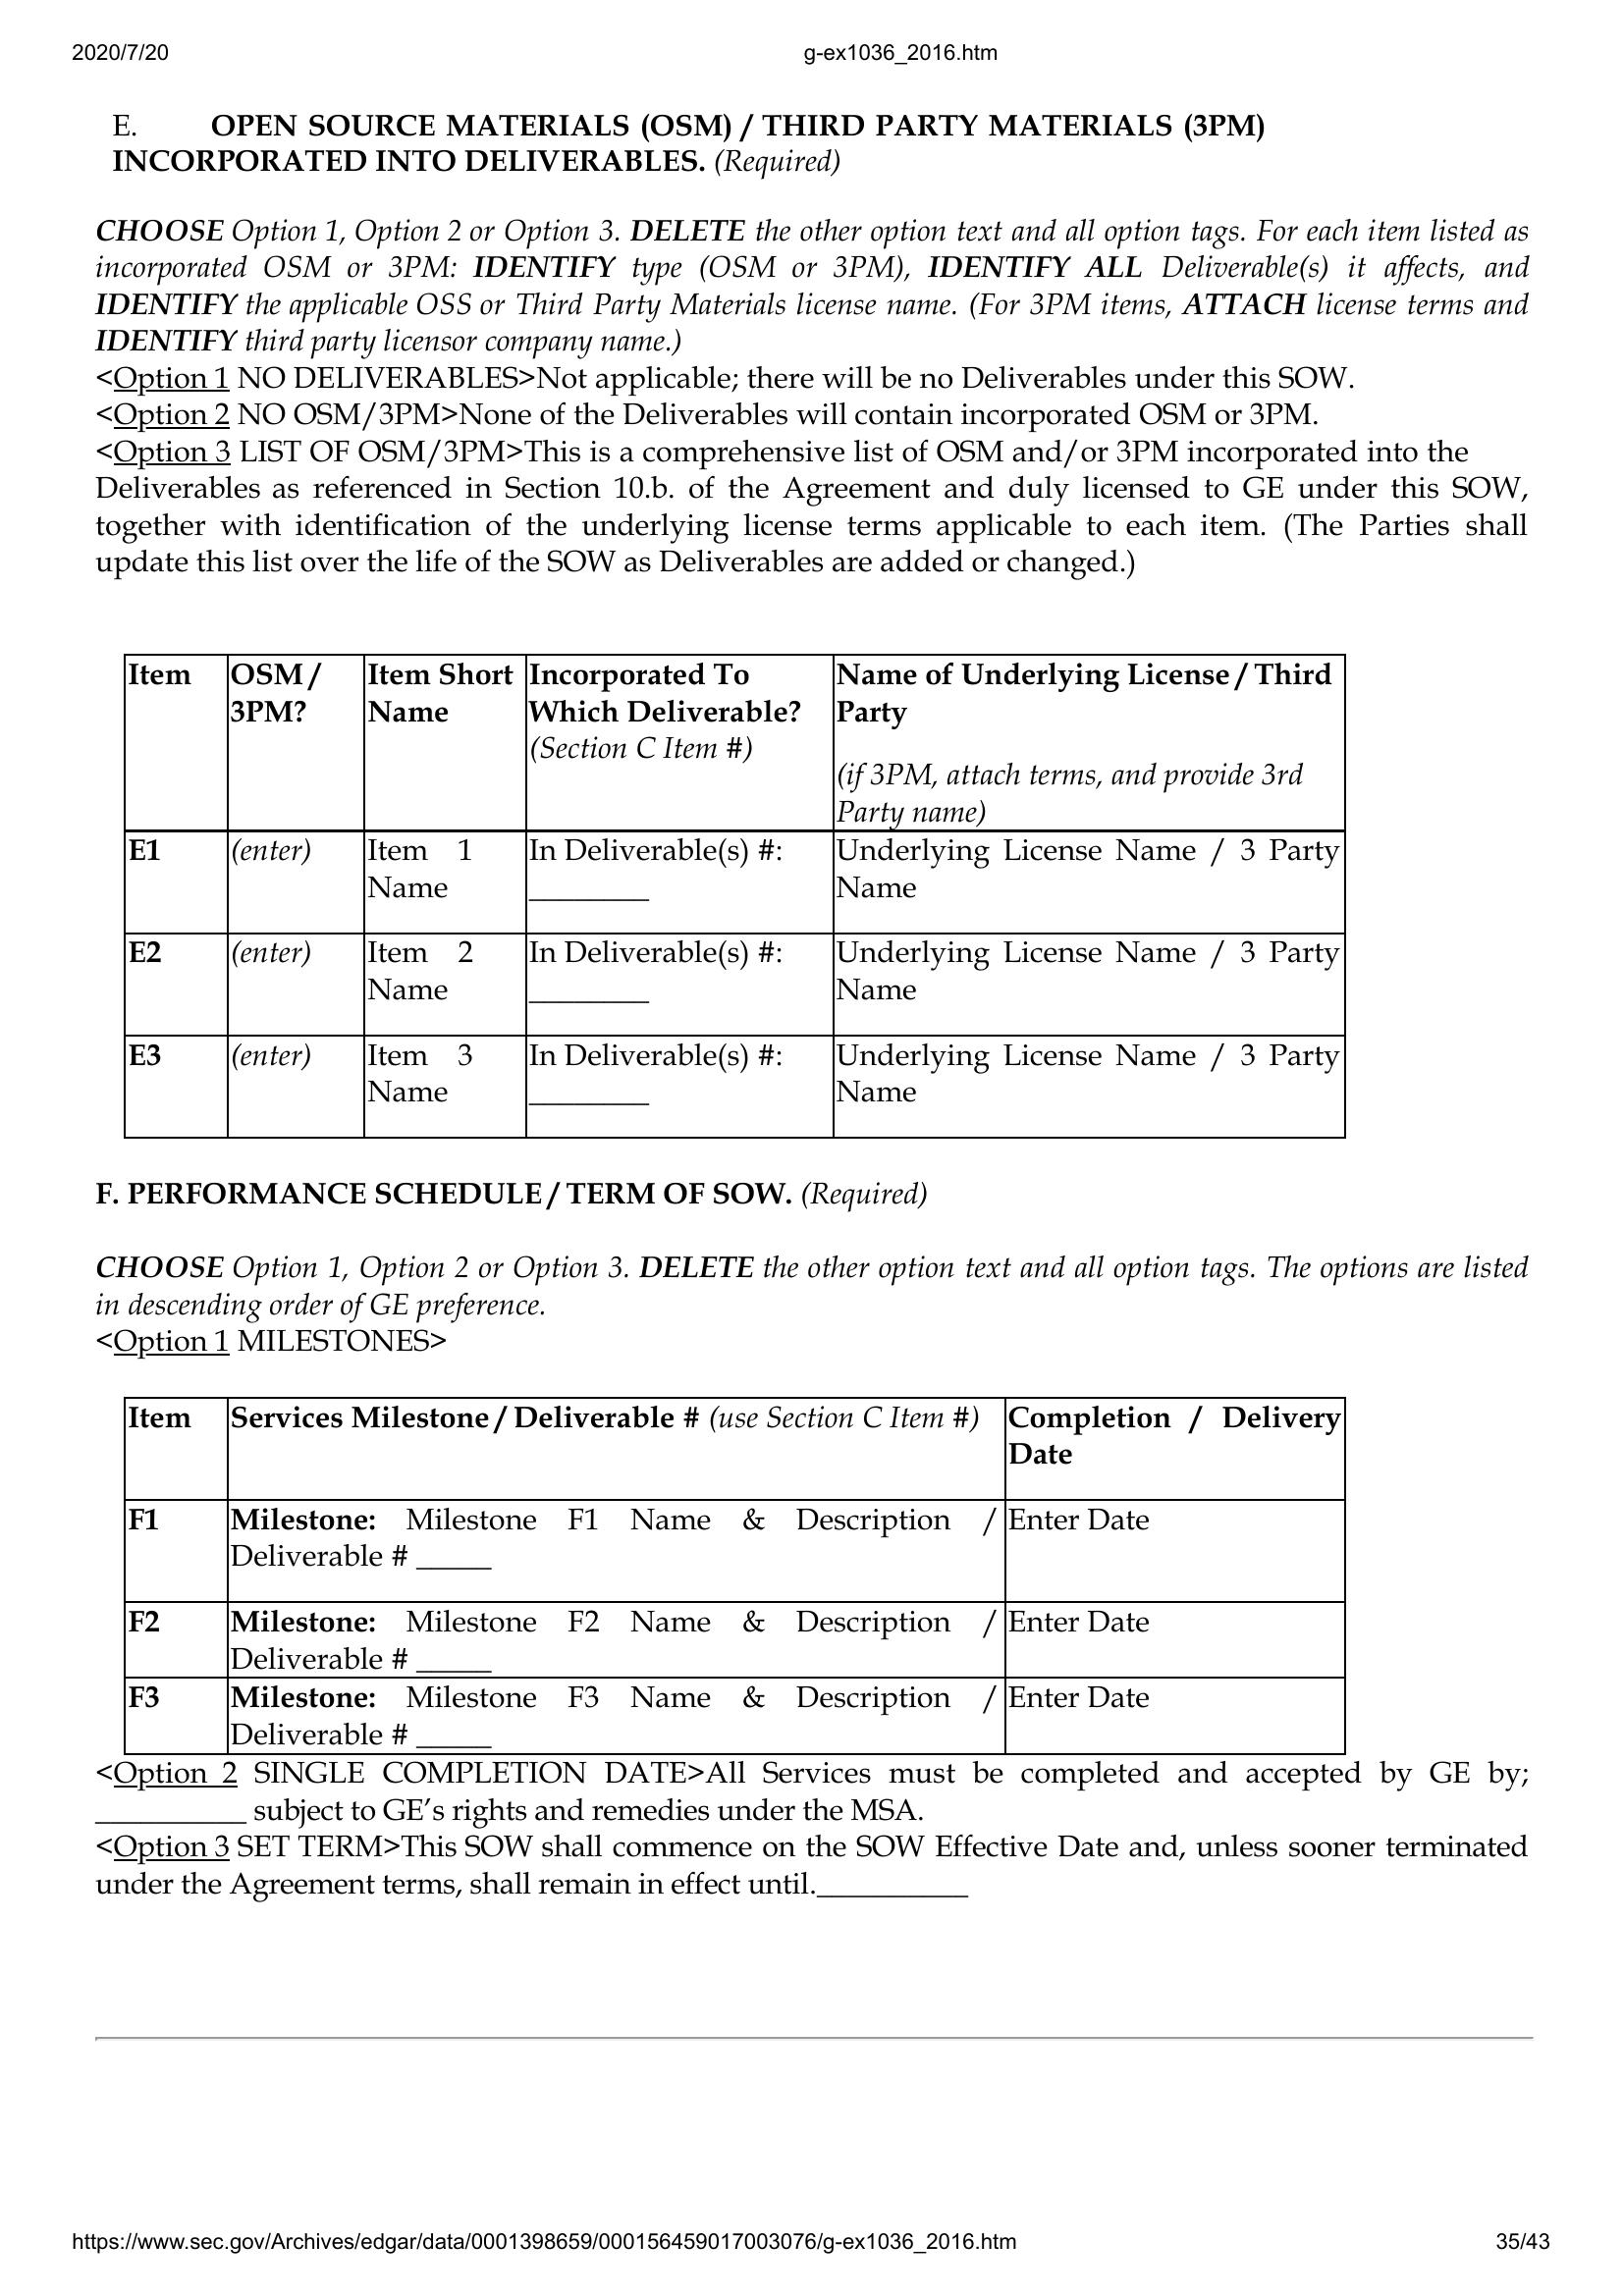table: (119, 648, 1354, 1150), (118, 1396, 1352, 1761)
